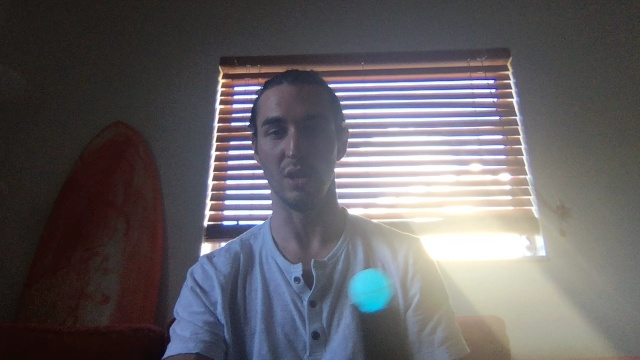wand: (350, 268, 391, 311)
